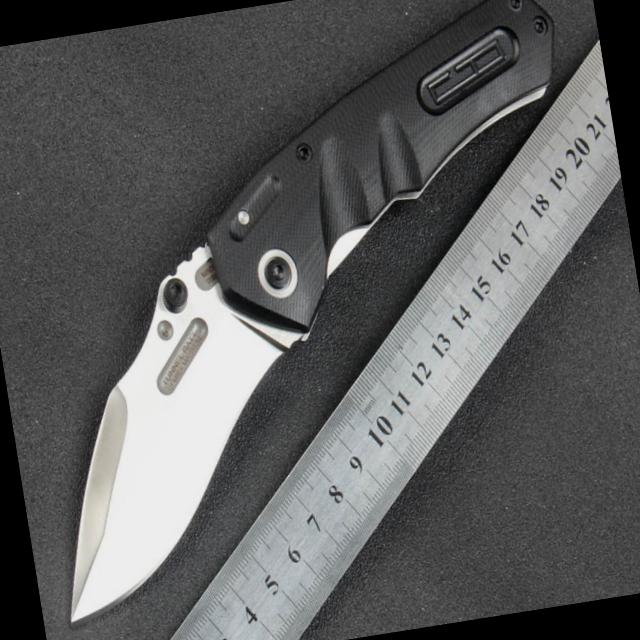knife: (5, 219, 337, 639)
